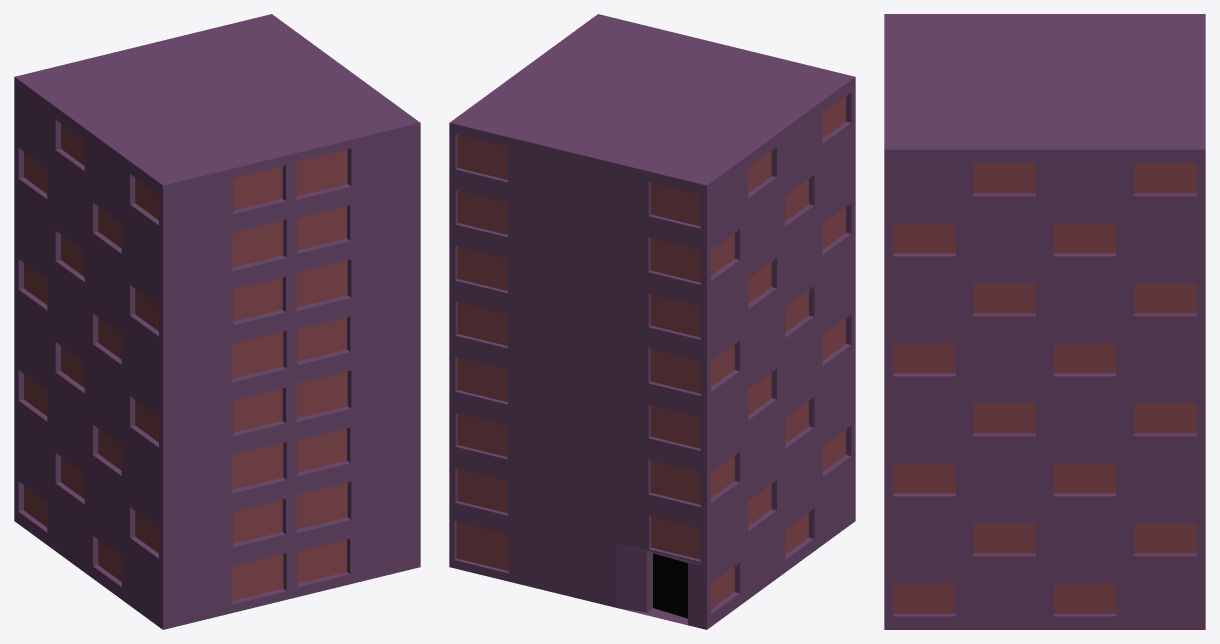
File: PredioVini2.fbx
3 renders of one model, left to right at view 1: azimuth 30°, elevation 25°; view 2: azimuth 150°, elevation 25°; view 3: azimuth 270°, elevation 25°, orthographic. The views are drawn at different scales.
Parts seen in each view (by area): view 1: Cube; view 2: Cube; view 3: Cube.
Boxes of the visible parts, box(x1,y1,x2,y2) form: Cube: box(14, 14, 420, 629); Cube: box(449, 14, 855, 629); Cube: box(884, 14, 1205, 629).
Size of the model in its own units: 239 by 395 by 239.
